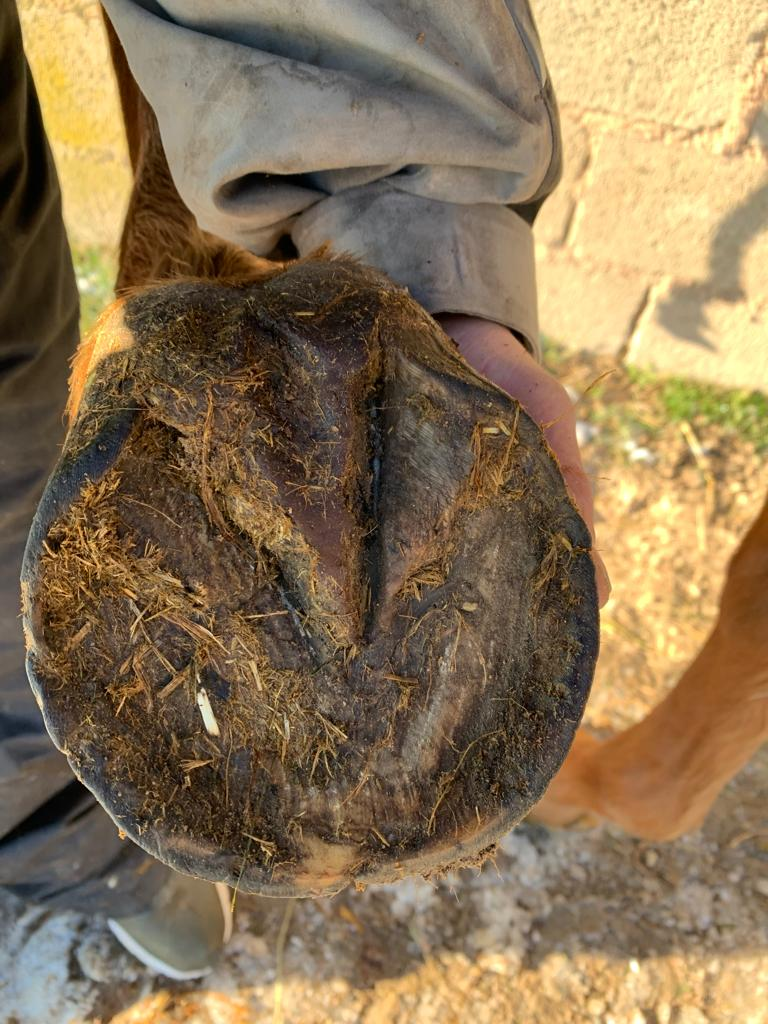horsesole: (18, 337, 602, 898)
